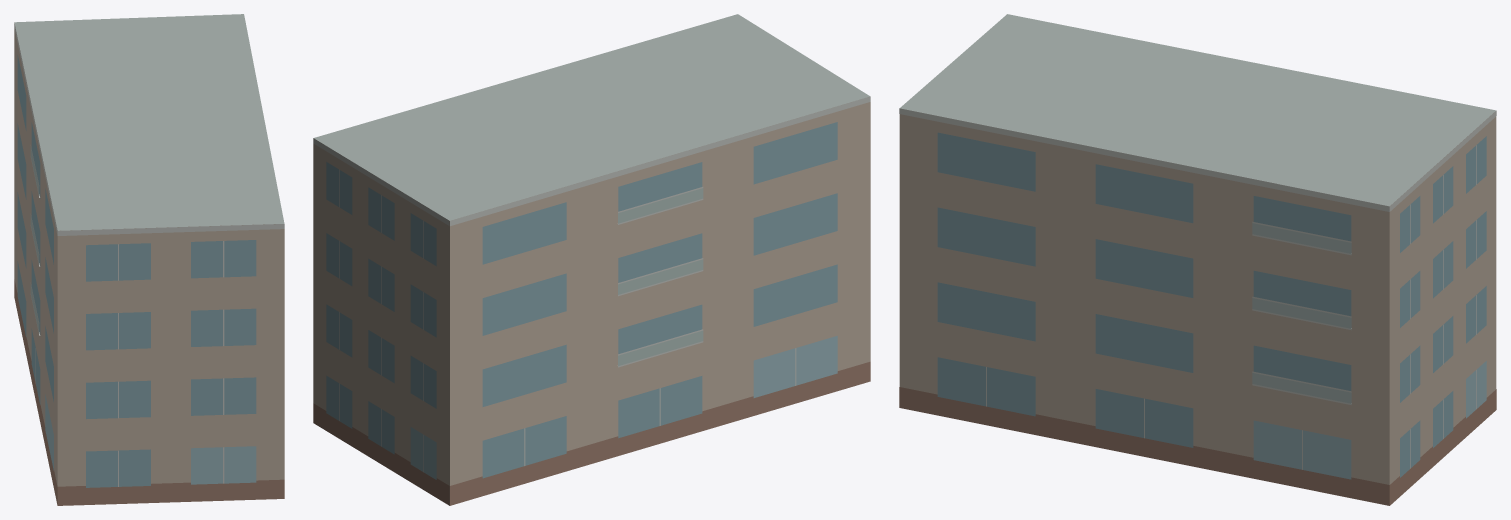
Rendered from survey-upis-32553343.glb.
3 views of the same model, side by side, from view 1: azimuth 30°, elevation 25°; view 2: azimuth 150°, elevation 25°; view 3: azimuth 270°, elevation 25° (orthographic). The views are drawn at different scales.
Parts seen in each view (by area): view 1: survey-upis-32553343.tmp; view 2: survey-upis-32553343.tmp; view 3: survey-upis-32553343.tmp.
Part boxes in pixels (x1,y1,x2,y2): survey-upis-32553343.tmp: (14,14,284,505); survey-upis-32553343.tmp: (313,14,870,505); survey-upis-32553343.tmp: (899,14,1496,505).
Size of the model in its own units: 17.64 by 12.8 by 23.13.
